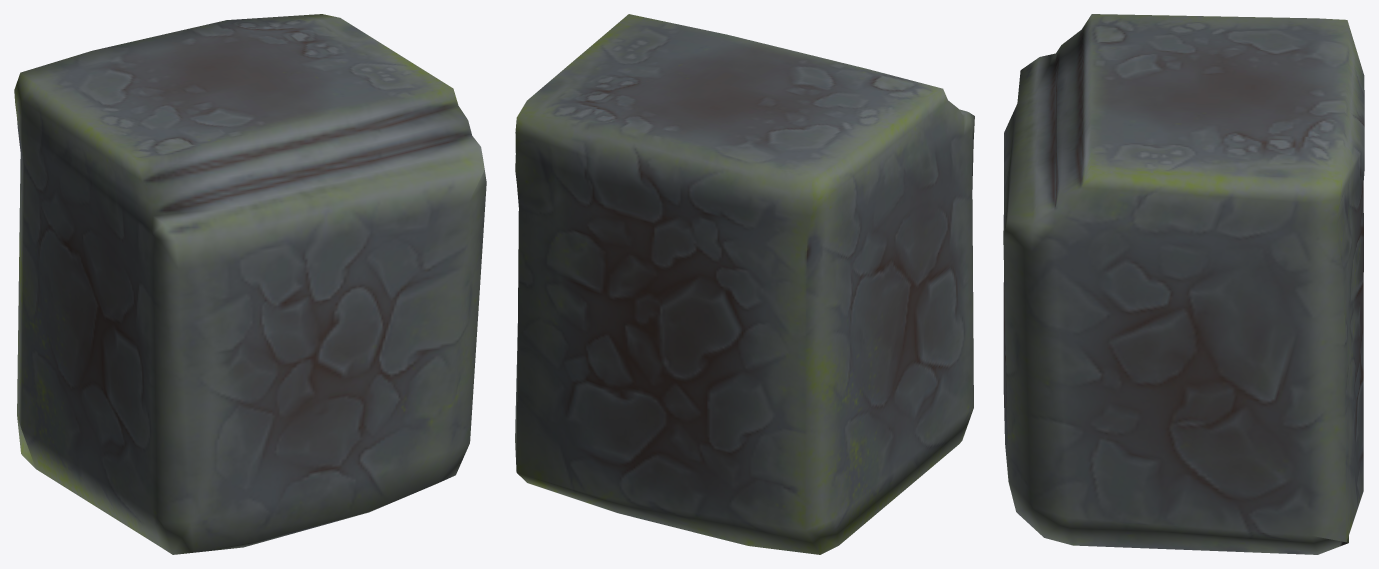
The model's file is M_Stairs.fbx.
The picture shows the model from 3 angles, left to right: view 1: azimuth 30°, elevation 25°; view 2: azimuth 150°, elevation 25°; view 3: azimuth 270°, elevation 25°; orthographic projection. The views are drawn at different scales.
Parts seen in each view (by area): view 1: Stairs_LP; view 2: Stairs_LP; view 3: Stairs_LP.
Part boxes in pixels (<box>): Stairs_LP: <box>14,14,486,554</box>; Stairs_LP: <box>515,14,974,554</box>; Stairs_LP: <box>1003,14,1364,554</box>.
Size of the model in its own units: 1078 by 1225 by 1006.
Materials: 1 (1 with a texture image).
